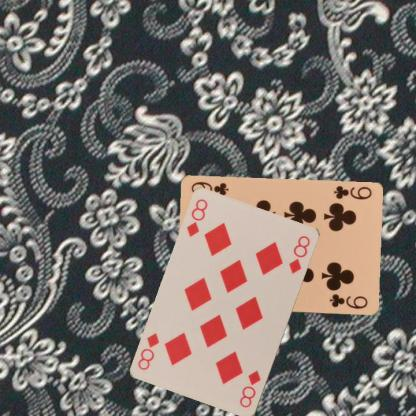8d: (237, 368, 262, 410), (184, 196, 209, 238)
9c: (330, 183, 373, 201)
